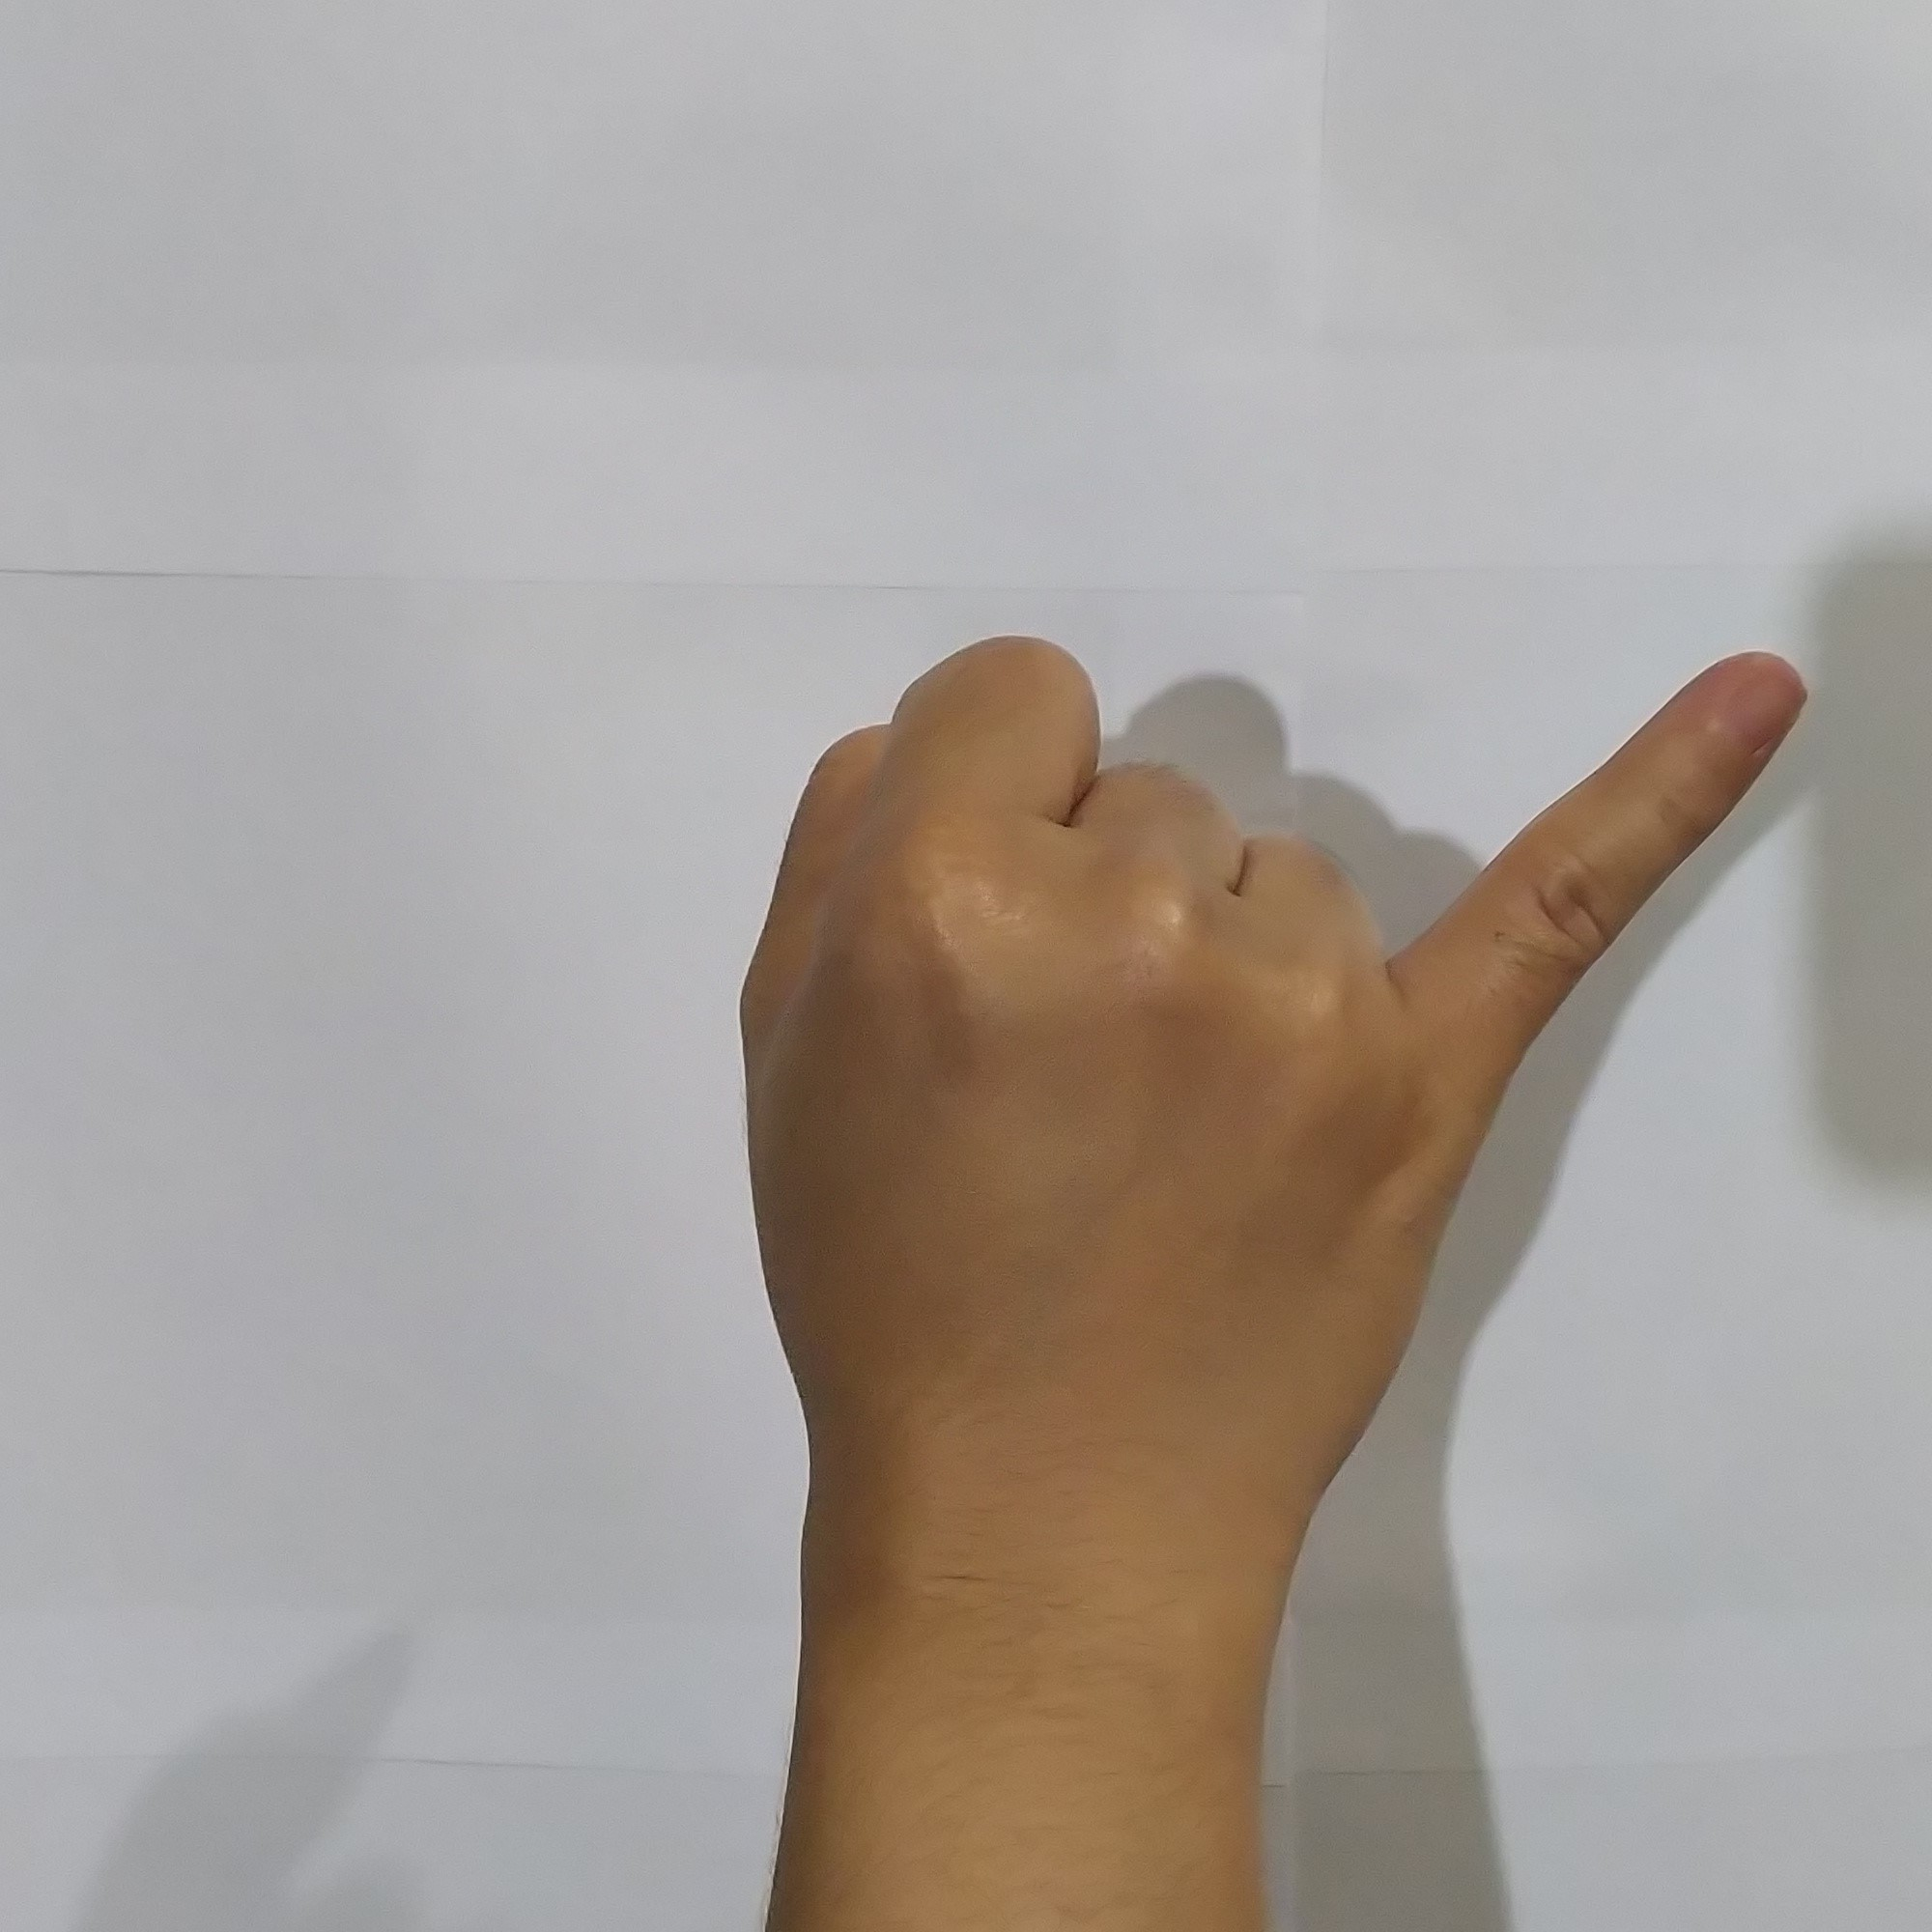J: (711, 607, 1829, 1488)
